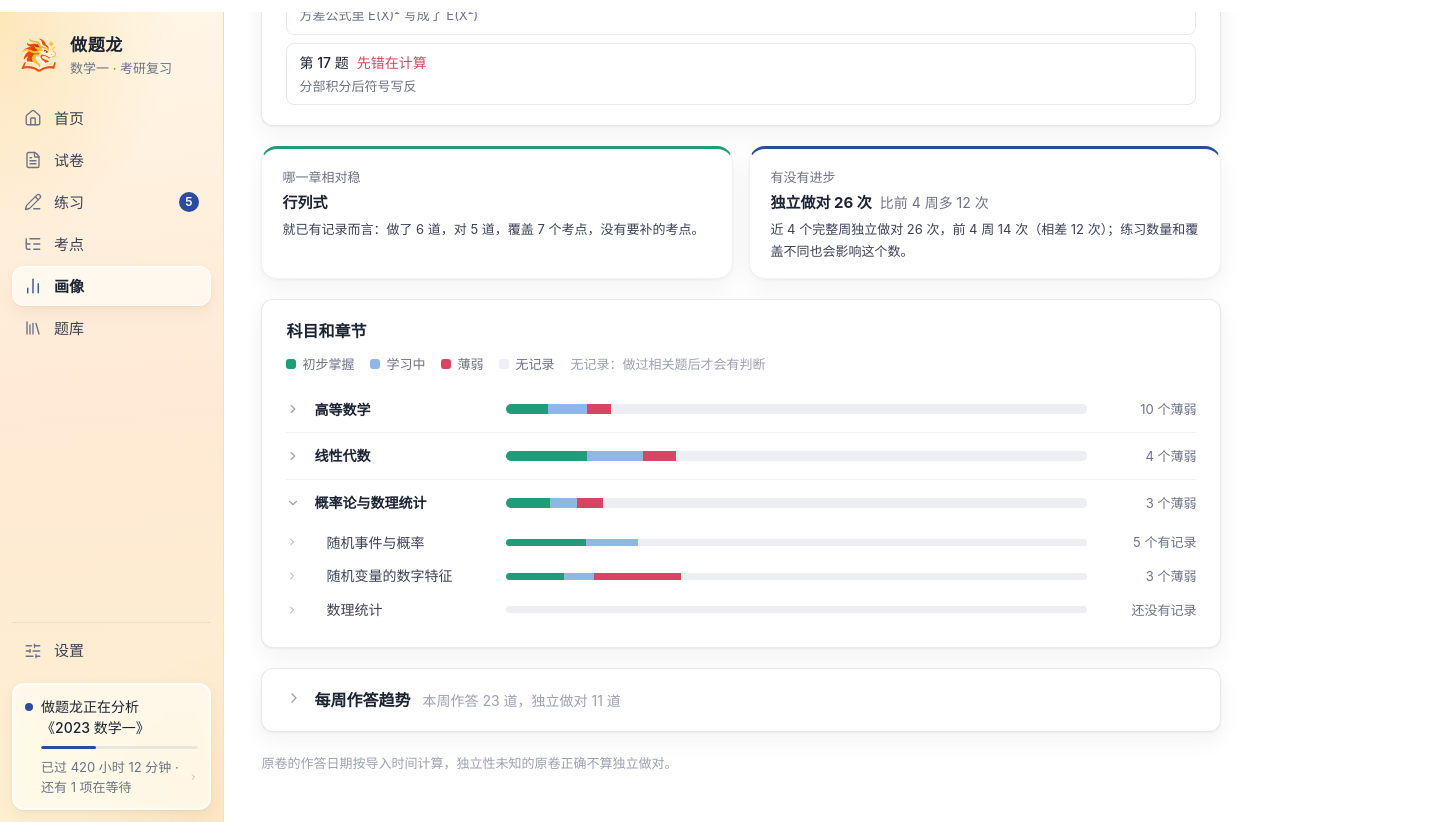
notes attempts whose date is only a month or unknown in the weekly trend
(page scrolled)
Click the button "每周作答趋势 本周作答 23 道，独立做对 11 道": {"x": 362, "y": 700} top-left (286, 689), bottom-right (1196, 711)
(page scrolled)
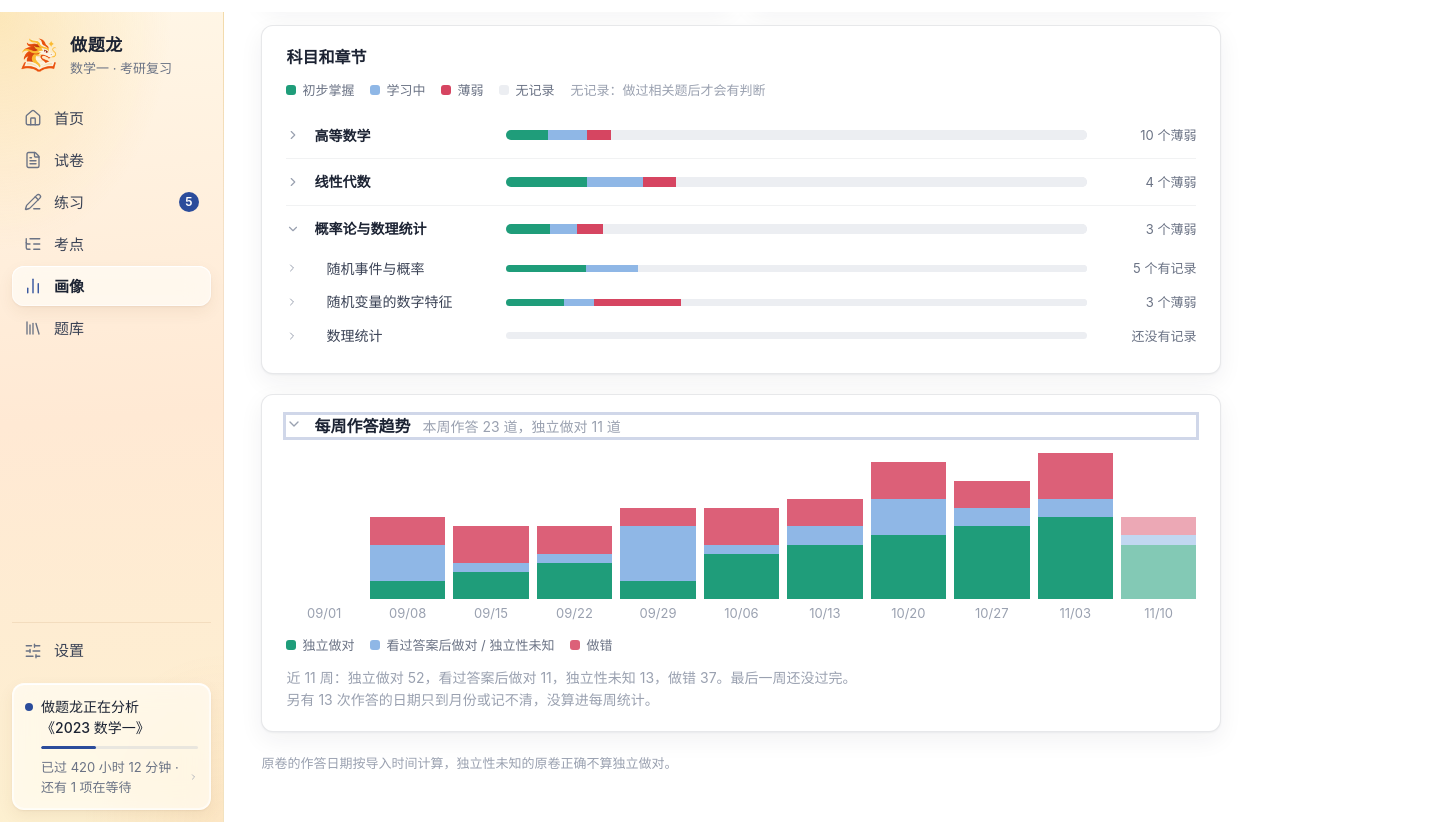
Expected: the text "原卷的作答日期按导入时间计算，独立性未知的原卷正确不算独立做对。" is shown once, top-left (261, 755), bottom-right (677, 771)
Expected: the text "另有 13 次作答的日期只到月份或记不清，没算进每周统计。" is shown, top-left (286, 691), bottom-right (659, 708)
